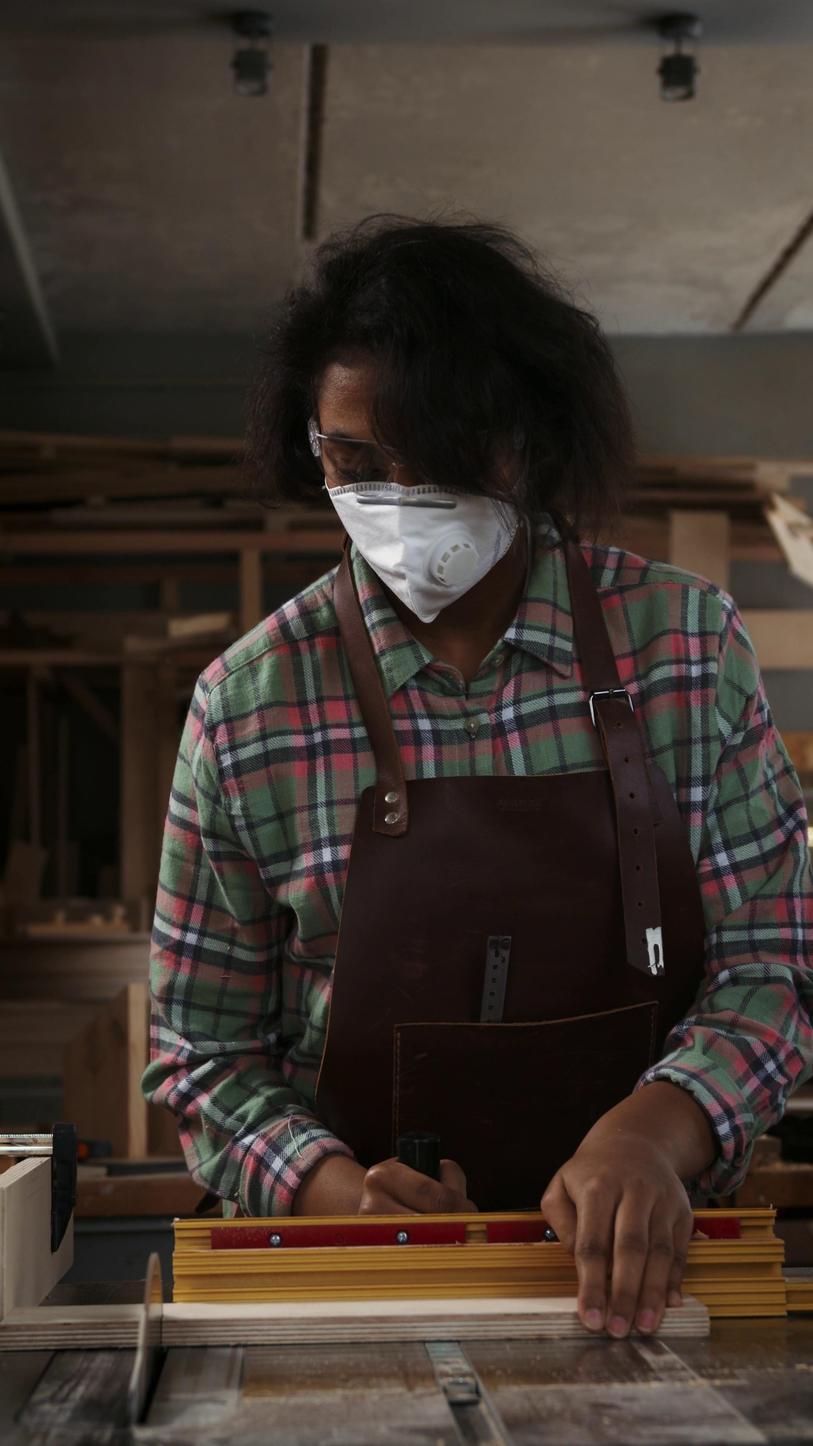mask: (323, 482, 519, 624)
person: (137, 212, 813, 1339)
